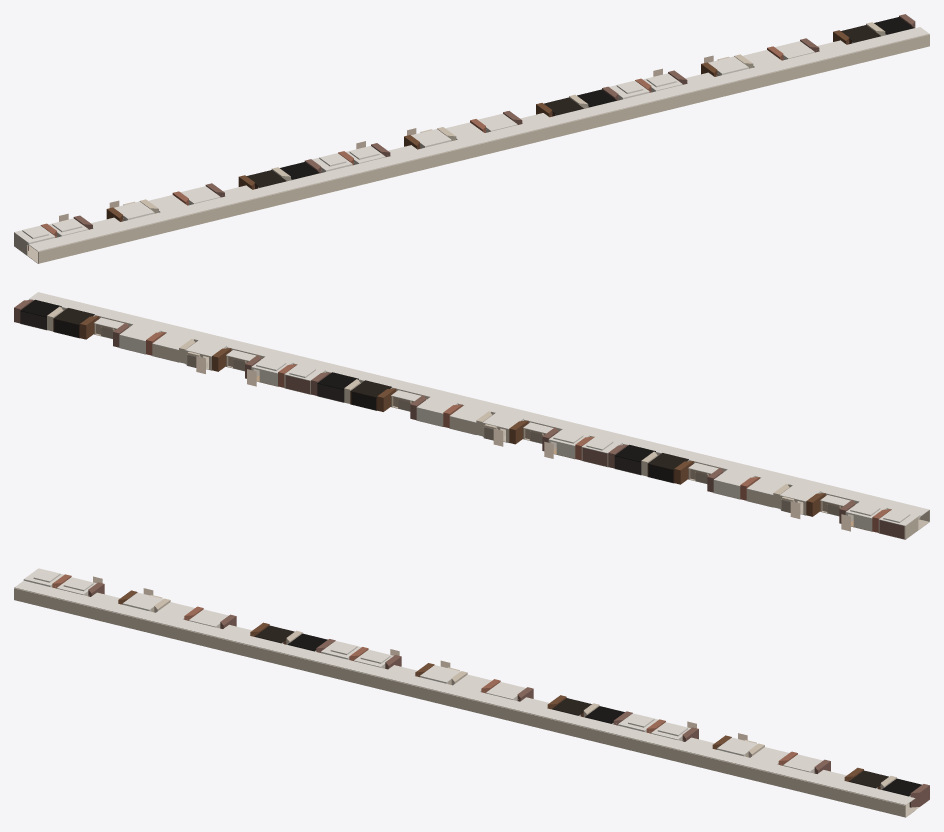
3 views of the same model, one above another, from view 1: azimuth 30°, elevation 25°; view 2: azimuth 150°, elevation 25°; view 3: azimuth 330°, elevation 25° (orthographic).
Parts seen in each view (by area): view 1: dinding depan.001, dinding depan.002, dinding depan.003, plafon aula.001, plafon aula.002, plafon aula.003; view 2: plafon aula.001, plafon aula.002, plafon aula.003; view 3: dinding depan.002, dinding depan.003, dinding depan.001, plafon aula.003, plafon aula.001, plafon aula.002.
Part boxes in pixels (x1,y1,x2,y2): dinding depan.001: [38, 179, 335, 263]; dinding depan.002: [335, 107, 632, 191]; dinding depan.003: [632, 34, 929, 118]; plafon aula.001: [28, 172, 334, 251]; plafon aula.002: [326, 99, 632, 179]; plafon aula.003: [623, 27, 929, 106]; plafon aula.001: [623, 437, 929, 516]; plafon aula.002: [326, 364, 631, 443]; plafon aula.003: [29, 292, 334, 370]; dinding depan.002: [311, 660, 608, 744]; dinding depan.003: [608, 733, 905, 817]; dinding depan.001: [14, 588, 310, 672]; plafon aula.003: [608, 725, 915, 805]; plafon aula.001: [14, 580, 320, 660]; plafon aula.002: [311, 653, 617, 732].
Size of the model in its own units: 254 by 4.3 by 14.45.
